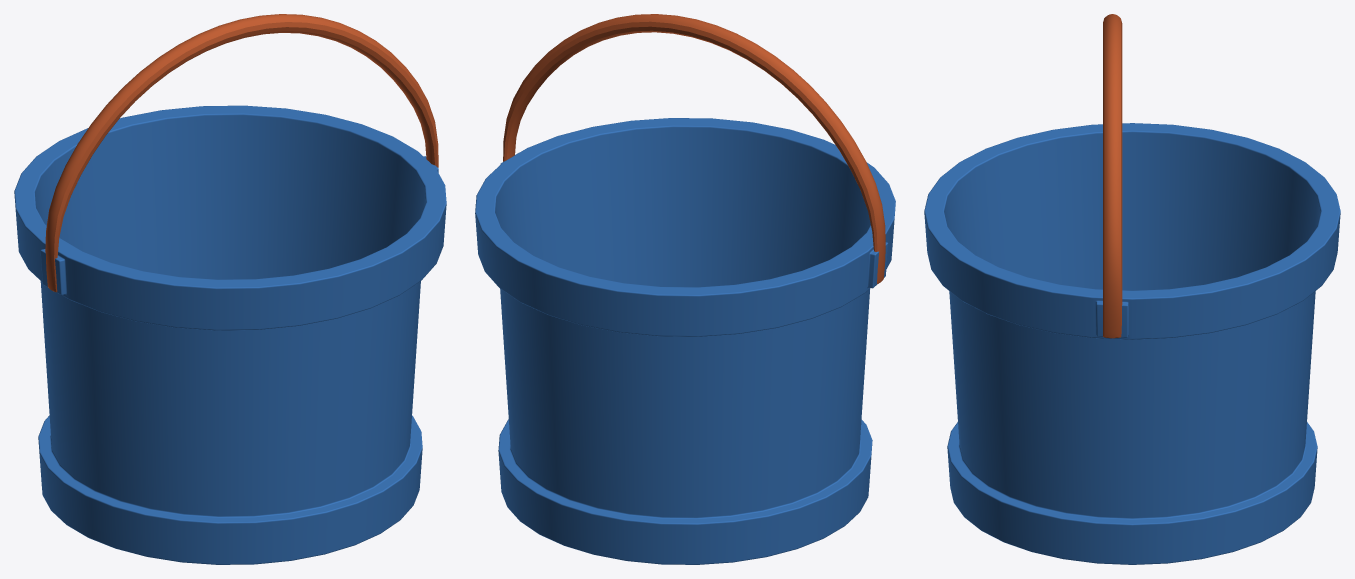
Rendered from Bucket_Style_01.fbx.
3 renders of one model, left to right at view 1: azimuth 30°, elevation 25°; view 2: azimuth 150°, elevation 25°; view 3: azimuth 270°, elevation 25°, orthographic. The views are drawn at different scales.
Parts seen in each view (by area): view 1: SetA_Bucket_Style_01; view 2: SetA_Bucket_Style_01; view 3: SetA_Bucket_Style_01.
Boxes of the visible parts, x1,y1,x2,y2 form: SetA_Bucket_Style_01: (14, 14, 446, 564); SetA_Bucket_Style_01: (475, 14, 895, 564); SetA_Bucket_Style_01: (924, 14, 1340, 564).
Bounding box in the file's own units: 0.1667 × 0.194 × 0.1612.
